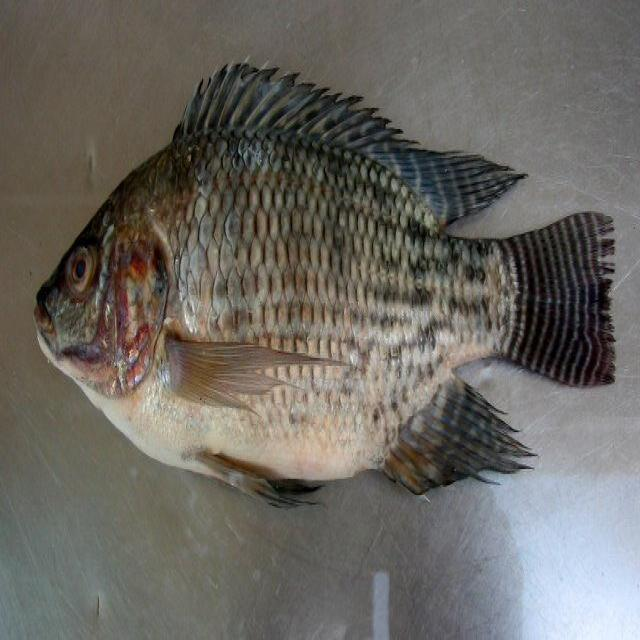ikan: (25, 44, 624, 550)
